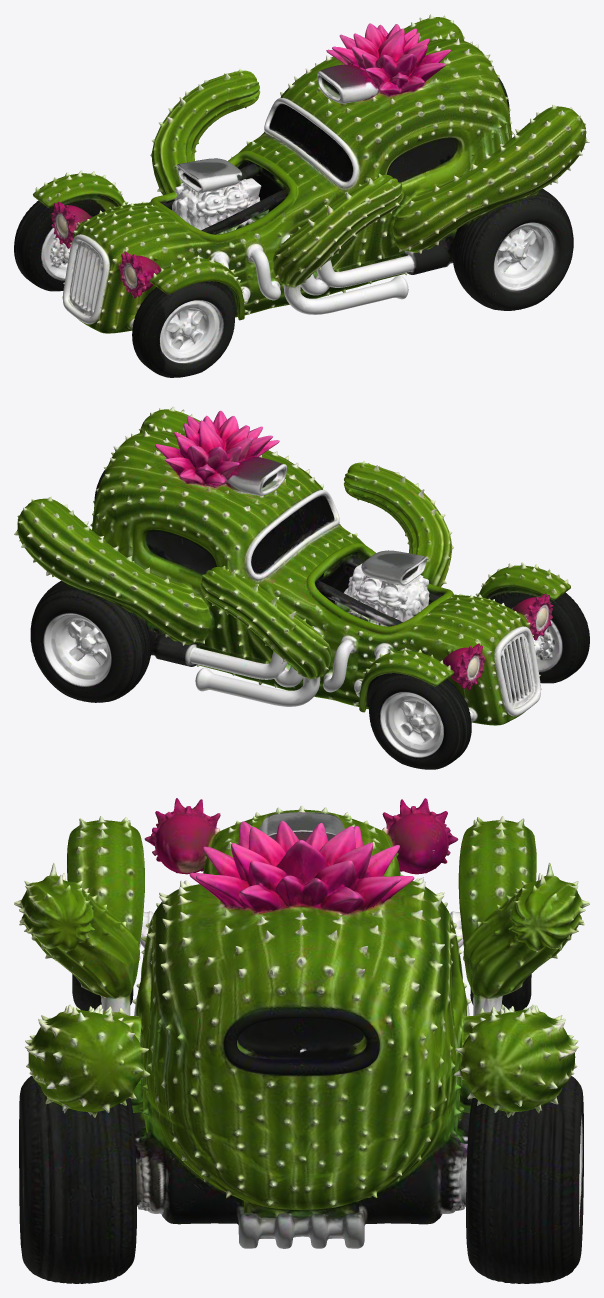
File: cactus.glb
3 views of the same model, one above another, from view 1: azimuth 30°, elevation 25°; view 2: azimuth 150°, elevation 25°; view 3: azimuth 270°, elevation 25° (orthographic). The views are drawn at different scales.
Visible parts, largest first — view 1: object 1, wheel_3, wheel_1, wheel_2; view 2: object 1, wheel_2, wheel_0, wheel_3; view 3: object 1, wheel_0, wheel_1.
Part boxes in pixels (x1,y1,x2,y2): object 1: (14, 14, 589, 377); wheel_3: (113, 285, 223, 368); wheel_1: (455, 220, 562, 297); wheel_2: (42, 215, 92, 280); object 1: (14, 406, 589, 769); wheel_2: (380, 660, 488, 760); wheel_0: (41, 612, 148, 689); wheel_3: (511, 607, 561, 672); object 1: (14, 798, 589, 1283); wheel_0: (423, 1107, 583, 1246); wheel_1: (19, 1107, 176, 1246).
Bounding box in the file's own units: 1.9 × 0.9352 × 1.26.
1 material, 1 textured.
